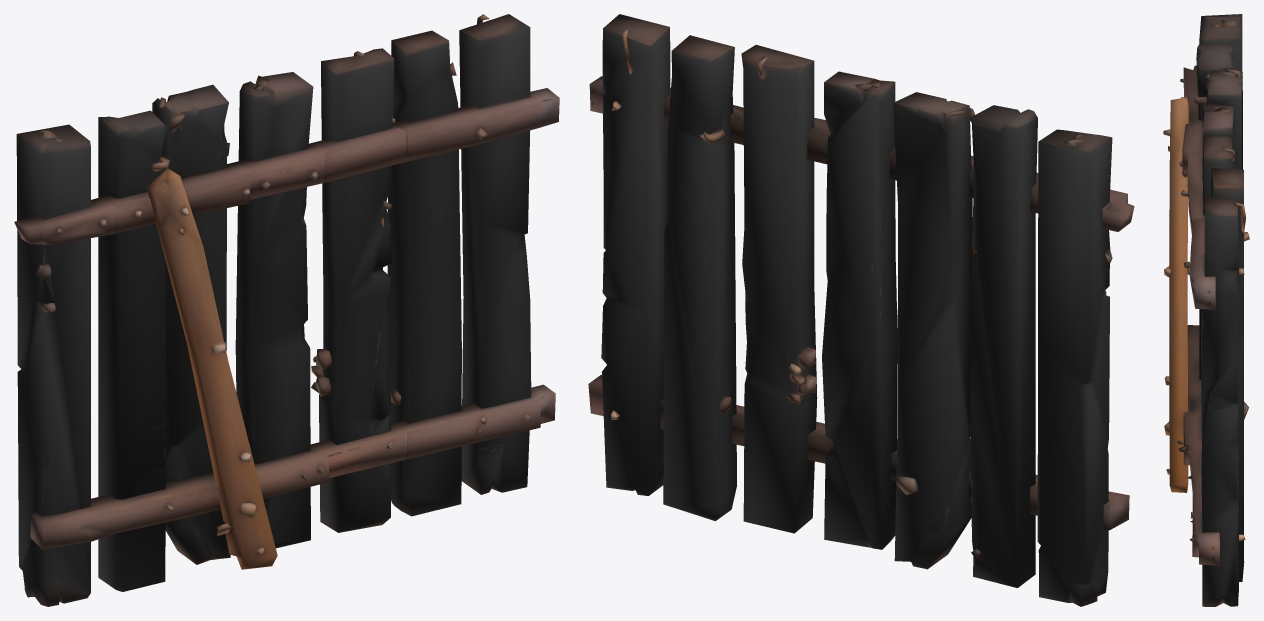
The model's file is sleeper_fence.glb.
The picture shows the model from 3 angles, left to right: view 1: azimuth 30°, elevation 25°; view 2: azimuth 150°, elevation 25°; view 3: azimuth 270°, elevation 25°; orthographic projection. The views are drawn at different scales.
Parts seen in each view (by area): view 1: sleeper_fence_LOD0; view 2: sleeper_fence_LOD0; view 3: sleeper_fence_LOD0.
Part boxes in pixels (x1,y1,x2,y2): sleeper_fence_LOD0: [14, 14, 559, 606]; sleeper_fence_LOD0: [588, 14, 1134, 606]; sleeper_fence_LOD0: [1163, 14, 1249, 606].
Size of what is drawn, in the model's own units: 1.67 by 1.4 by 0.2737.
Materials: 1 (1 with a texture image).
